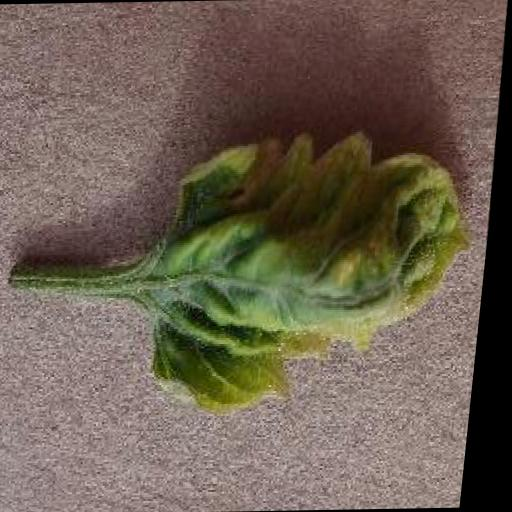Yellow Leaf Curl Virus: (142, 124, 491, 414)
